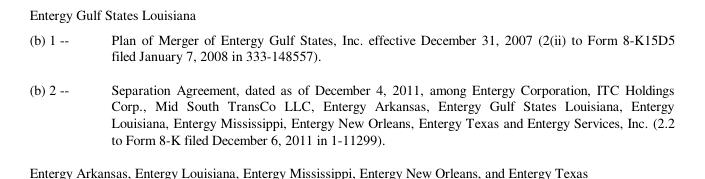table: (28, 29, 674, 147)
table column: (89, 29, 674, 147), (28, 29, 89, 147)
table row: (28, 71, 674, 147), (28, 29, 674, 71)
